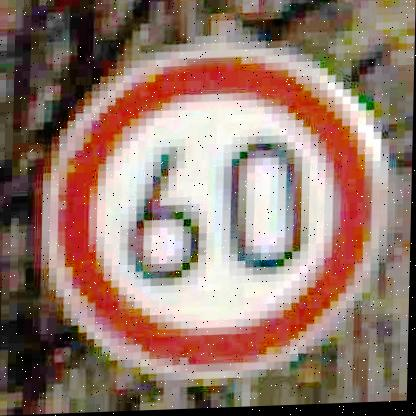Speed Limit -60-: (37, 43, 391, 384)
